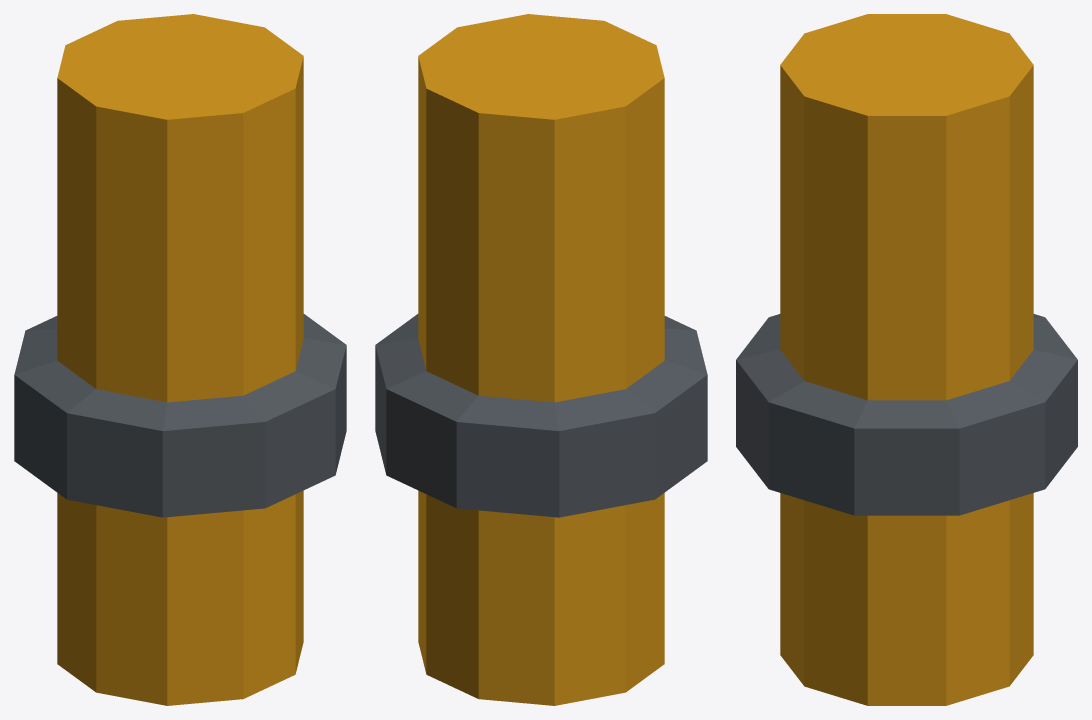
File: Dropship_01_Piping_01_Yellow.fbx
3 views of the same model, side by side, from view 1: azimuth 30°, elevation 25°; view 2: azimuth 150°, elevation 25°; view 3: azimuth 270°, elevation 25° (orthographic).
Visible parts, largest first — view 1: Dropship_01_Piping_01_Yellow; view 2: Dropship_01_Piping_01_Yellow; view 3: Dropship_01_Piping_01_Yellow.
Part boxes in pixels (bbox=[...]): Dropship_01_Piping_01_Yellow: bbox=[14, 14, 346, 705]; Dropship_01_Piping_01_Yellow: bbox=[375, 14, 707, 705]; Dropship_01_Piping_01_Yellow: bbox=[736, 14, 1077, 705].
Size of the model in its own units: 70.5 by 141 by 74.13.
Materials: 1 (1 with a texture image).
